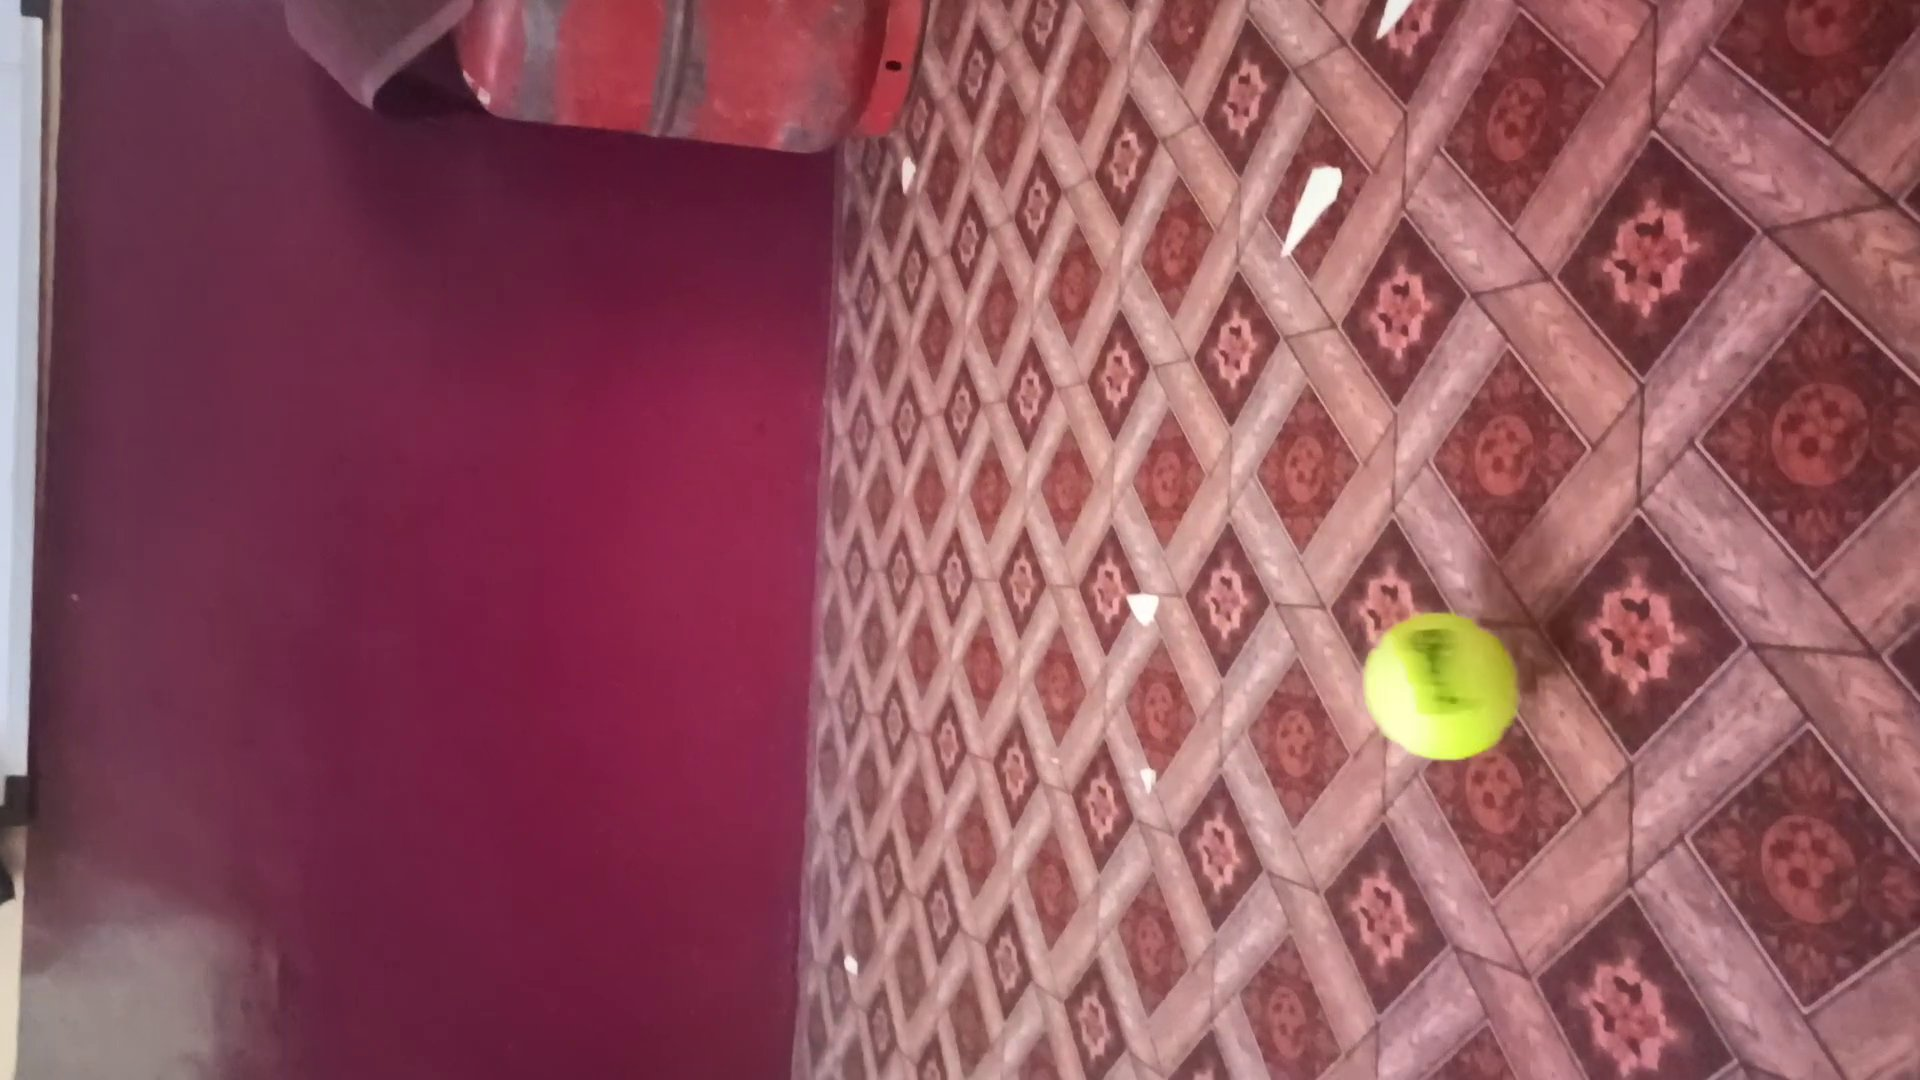Tennis-Ball: (1364, 612, 1519, 760)
